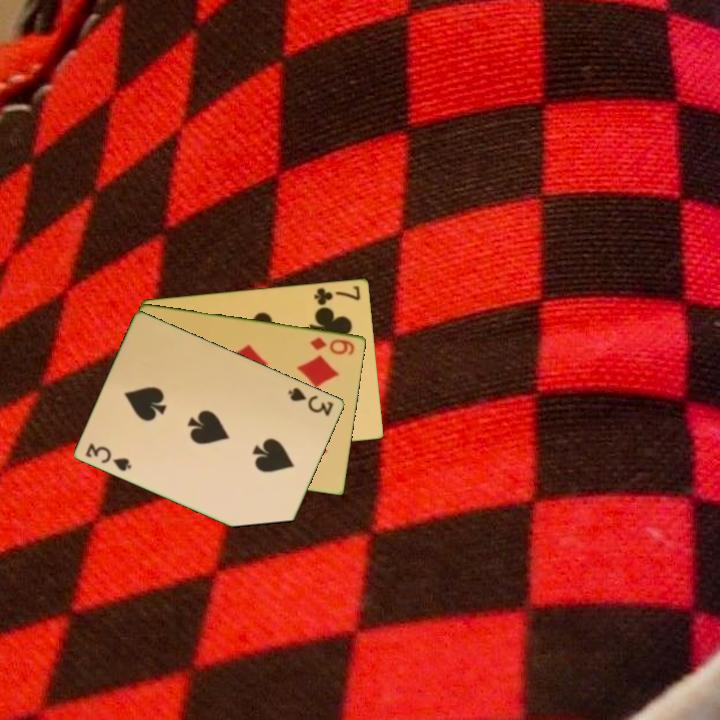3s: (285, 383, 337, 419), (82, 439, 135, 474)
6d: (307, 333, 358, 358)
7c: (311, 282, 364, 308)
